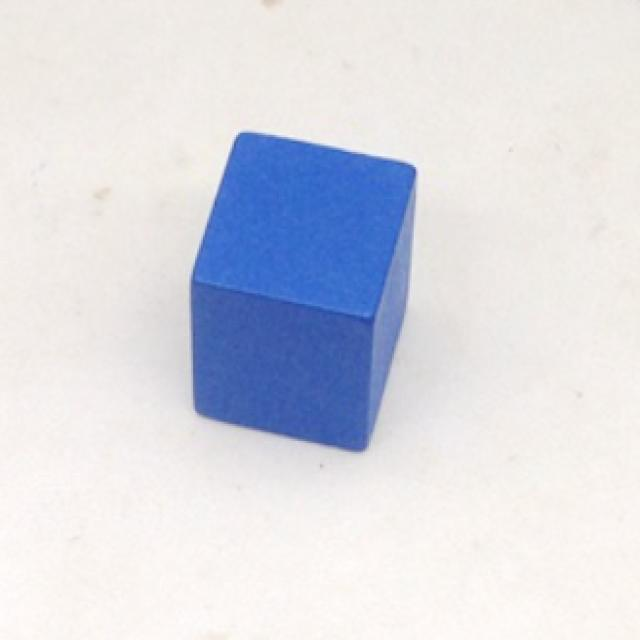bluecube: (193, 133, 418, 454)
